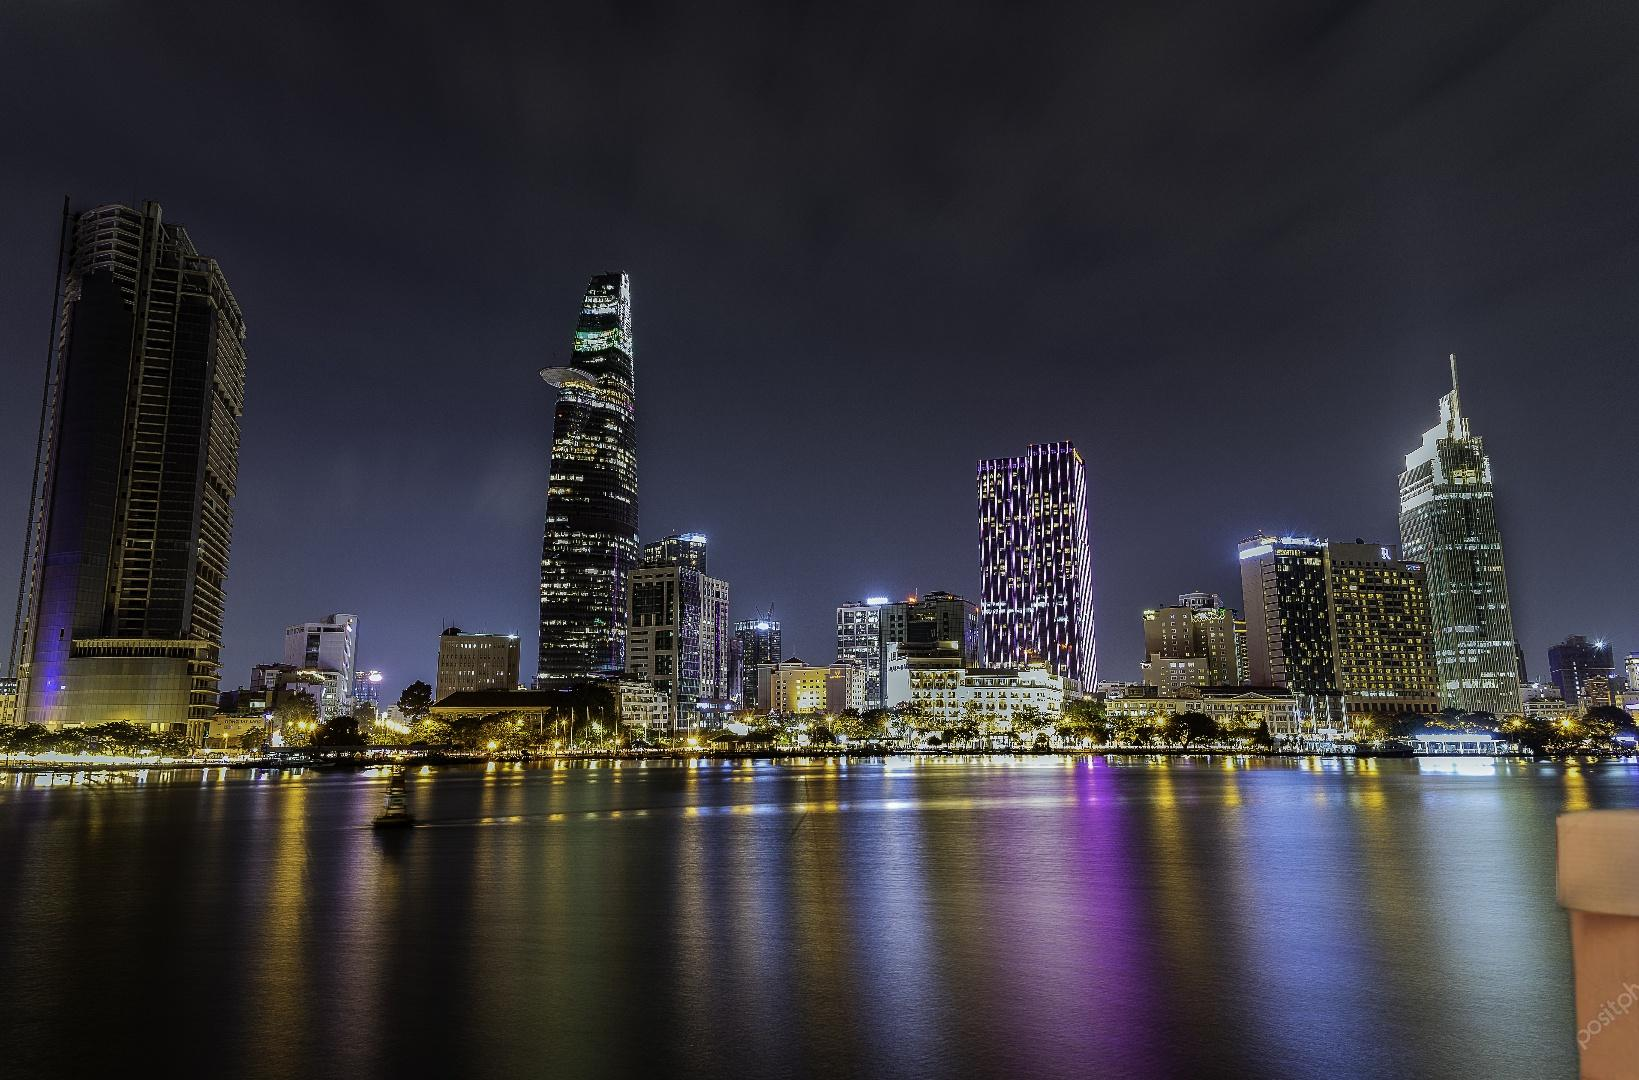plastic-bottles: (1563, 718, 1639, 1078)
trashbox-cardboard: (1556, 730, 1639, 1080)
